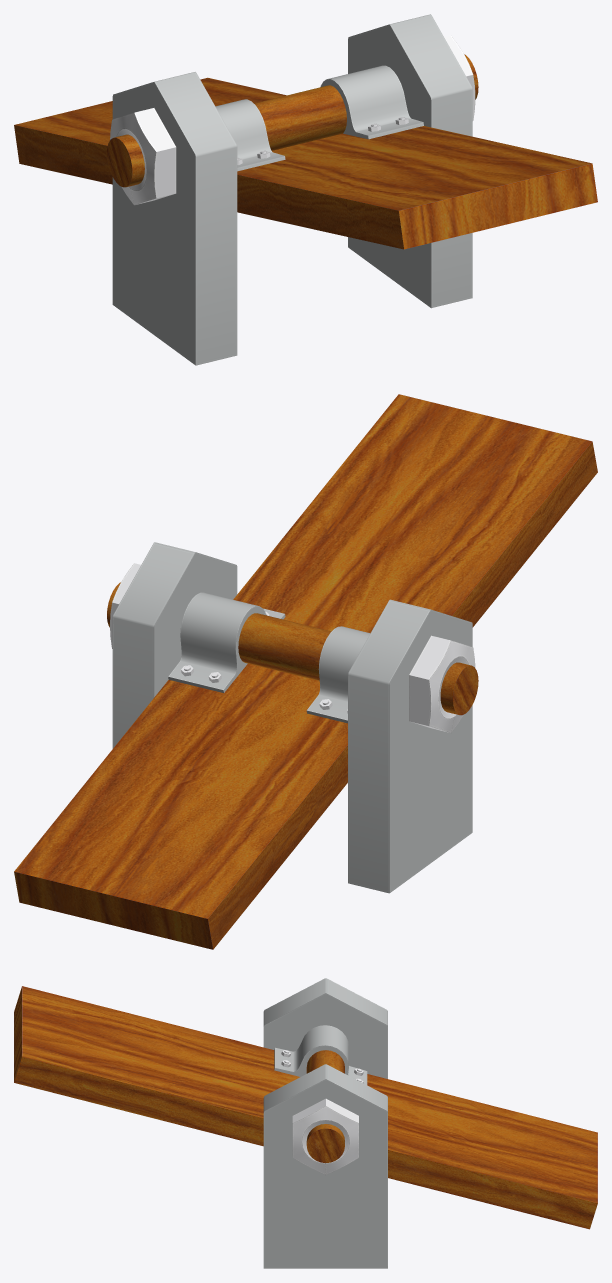
File: Seesaw.fbx
3 views of the same model, one above another, from view 1: azimuth 30°, elevation 25°; view 2: azimuth 150°, elevation 25°; view 3: azimuth 270°, elevation 25° (orthographic). The views are drawn at different scales.
Visible parts, largest first — view 1: Seesaw_Board, Seesaw_Support.001, Seesaw_Support, Seesaw_Axel, Seesaw_Anchor, Seesaw_Nut_Big.001, Seesaw_Anchor.001, Seesaw_Nut_Big; view 2: Seesaw_Board, Seesaw_Support.001, Seesaw_Support, Seesaw_Axel, Seesaw_Anchor, Seesaw_Nut_Big.001, Seesaw_Anchor.001; view 3: Seesaw_Board, Seesaw_Support, Seesaw_Support.001, Seesaw_Nut_Big, Seesaw_Anchor.001, Seesaw_Axel.
Part boxes in pixels (left/top/right/bottom): Seesaw_Board: left=14, top=77, right=597, bottom=249; Seesaw_Support.001: left=112, top=72, right=237, bottom=365; Seesaw_Support: left=348, top=14, right=472, bottom=308; Seesaw_Axel: left=107, top=54, right=478, bottom=187; Seesaw_Anchor: left=320, top=65, right=423, bottom=139; Seesaw_Nut_Big.001: left=110, top=108, right=176, bottom=205; Seesaw_Anchor.001: left=215, top=99, right=285, bottom=171; Seesaw_Nut_Big: left=444, top=35, right=475, bottom=120; Seesaw_Board: left=14, top=394, right=597, bottom=949; Seesaw_Support.001: left=348, top=599, right=472, bottom=893; Seesaw_Support: left=112, top=542, right=237, bottom=748; Seesaw_Axel: left=107, top=582, right=478, bottom=715; Seesaw_Anchor: left=168, top=592, right=285, bottom=692; Seesaw_Nut_Big.001: left=409, top=635, right=475, bottom=732; Seesaw_Anchor.001: left=306, top=626, right=370, bottom=723; Seesaw_Board: left=14, top=986, right=597, bottom=1229; Seesaw_Support: left=263, top=1064, right=387, bottom=1268; Seesaw_Support.001: left=263, top=978, right=387, bottom=1078; Seesaw_Nut_Big: left=292, top=1098, right=358, bottom=1174; Seesaw_Anchor.001: left=274, top=1025, right=367, bottom=1084; Seesaw_Axel: left=306, top=1050, right=344, bottom=1163.
Size of the model in its own units: 125 by 90.75 by 244.
